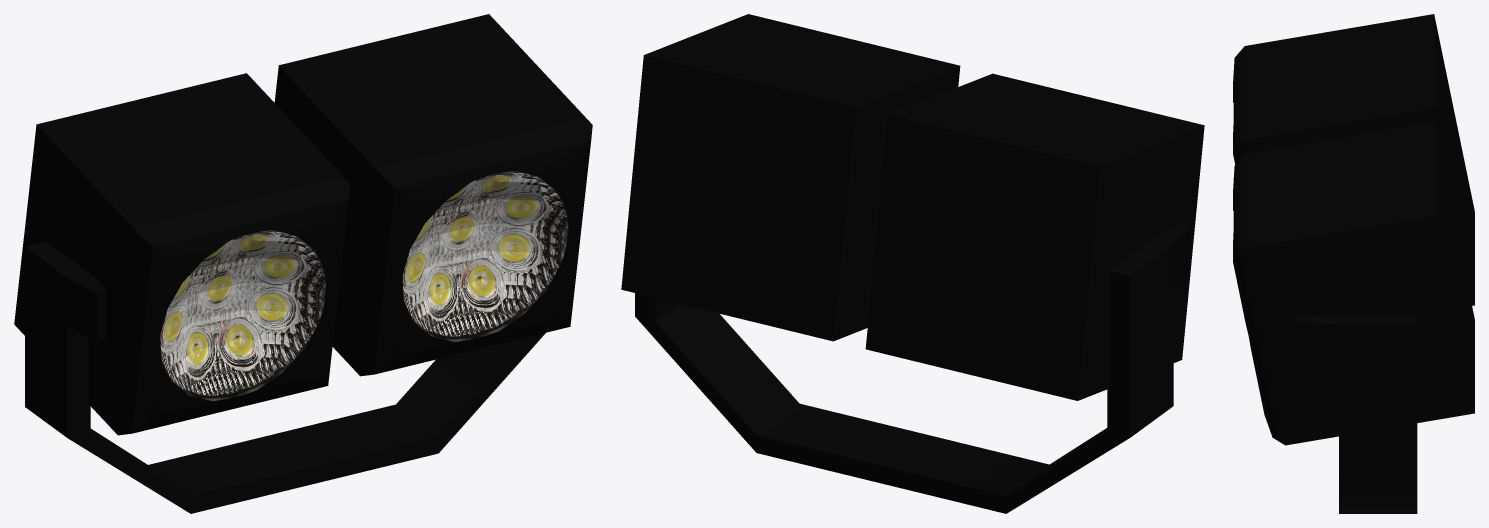
3 views of the same model, side by side, from view 1: azimuth 30°, elevation 25°; view 2: azimuth 150°, elevation 25°; view 3: azimuth 270°, elevation 25° (orthographic). The views are drawn at different scales.
Parts seen in each view (by area): view 1: pCube2; view 2: pCube2; view 3: pCube2.
Part boxes in pixels (box(x1,y1,x2,y2)): pCube2: box(14, 14, 592, 513); pCube2: box(621, 14, 1204, 513); pCube2: box(1233, 14, 1474, 513).
Bounding box in the file's own units: 0.0284 × 0.0208 × 0.0133.
